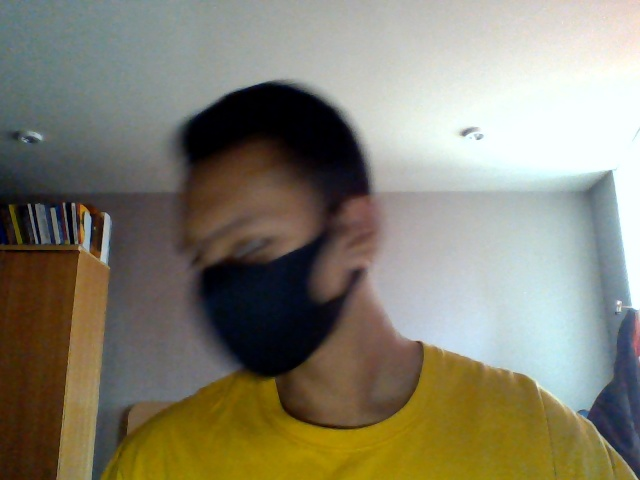mask: (196, 263, 349, 373)
